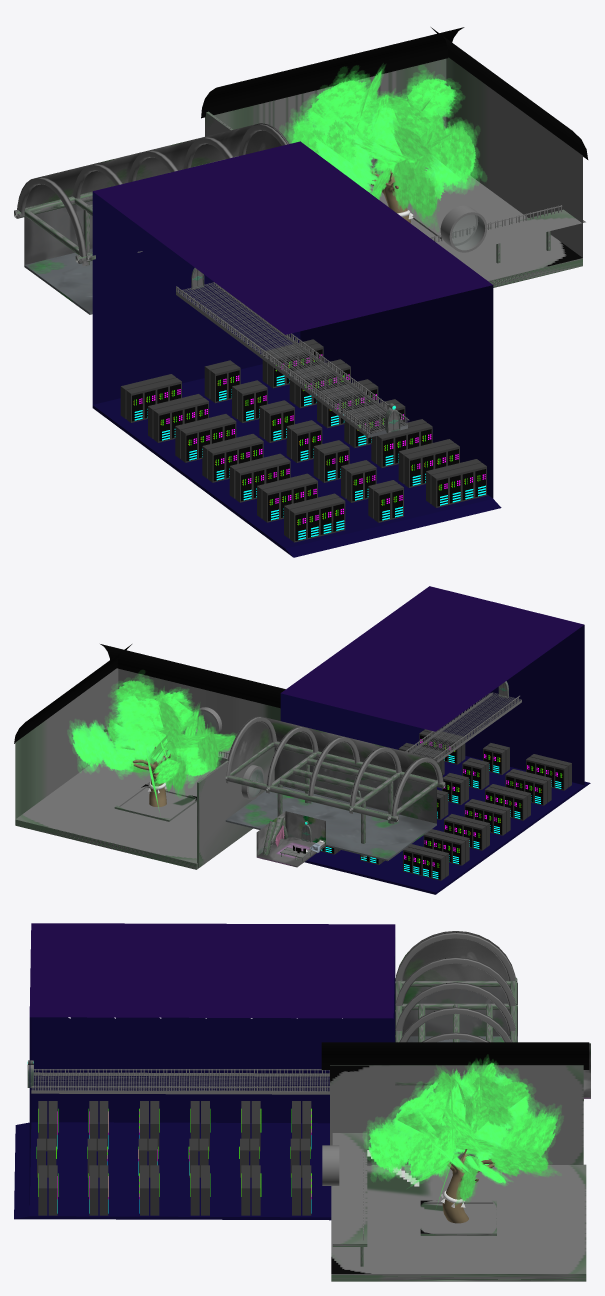
Rendered from Protolab.glb.
3 views of the same model, one above another, from view 1: azimuth 30°, elevation 25°; view 2: azimuth 150°, elevation 25°; view 3: azimuth 270°, elevation 25° (orthographic). The views are drawn at different scales.
Parts seen in each view (by area): view 1: sol.013, serveurs, sol.005, Plane.051, Plane.030, Cube.019, sol.012, Cylinder.023, Cylinder.017, Cylinder.018, Cylinder.022, sol.017 (+5 smaller); view 2: sol.013, sol.005, Plane.051, serveurs, sol.001, mur.006, Cylinder.017, Plane.030, Cylinder.025, sol.017, Cylinder.018, sol.012 (+16 smaller); view 3: sol.013, sol.005, mur.006, serveurs, Plane.051, Plane.030, Cylinder.024, sol.012, Cylinder.018, sol.008, Cube.019, Cylinder.017 (+7 smaller).
Boxes of the visible parts, x1,y1,x2,y2 form: sol.013: [92, 141, 501, 557]; serveurs: [120, 339, 486, 542]; sol.005: [214, 57, 582, 287]; Plane.051: [280, 65, 486, 200]; Plane.030: [316, 93, 479, 231]; Cube.019: [204, 360, 403, 522]; sol.012: [176, 282, 407, 437]; Cylinder.023: [201, 27, 464, 118]; Cylinder.017: [17, 123, 287, 209]; Cylinder.018: [17, 124, 289, 266]; Cylinder.022: [431, 27, 588, 159]; sol.017: [24, 200, 92, 264]; sol.013: [280, 586, 590, 894]; sol.005: [15, 668, 280, 869]; Plane.051: [68, 670, 228, 810]; serveurs: [320, 729, 571, 880]; sol.001: [225, 785, 436, 861]; mur.006: [197, 747, 274, 867]; Cylinder.017: [227, 716, 443, 781]; Plane.030: [107, 688, 236, 798]; Cylinder.025: [100, 644, 285, 708]; sol.017: [274, 747, 436, 823]; Cylinder.018: [226, 717, 443, 823]; sol.012: [409, 692, 521, 762]; sol.013: [14, 923, 395, 1220]; sol.005: [331, 1164, 586, 1281]; mur.006: [330, 1065, 583, 1164]; serveurs: [38, 1101, 311, 1215]; Plane.051: [411, 1055, 562, 1201]; Plane.030: [363, 1072, 500, 1204]; Cylinder.024: [321, 1042, 589, 1069]; sol.012: [31, 1072, 329, 1094]; Cylinder.018: [395, 932, 515, 1042]; sol.008: [332, 1133, 367, 1246]; Cube.019: [36, 1138, 310, 1177]; Cylinder.017: [395, 931, 515, 980].
Bounding box in the file's own units: 74.78 × 36.05 × 83.87.
27 materials, 11 textured.
